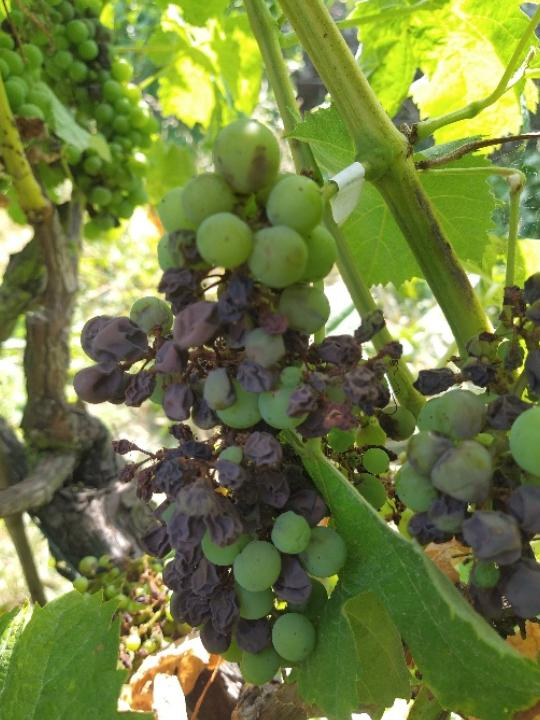grape: (73, 117, 414, 688), (0, 0, 148, 236)
